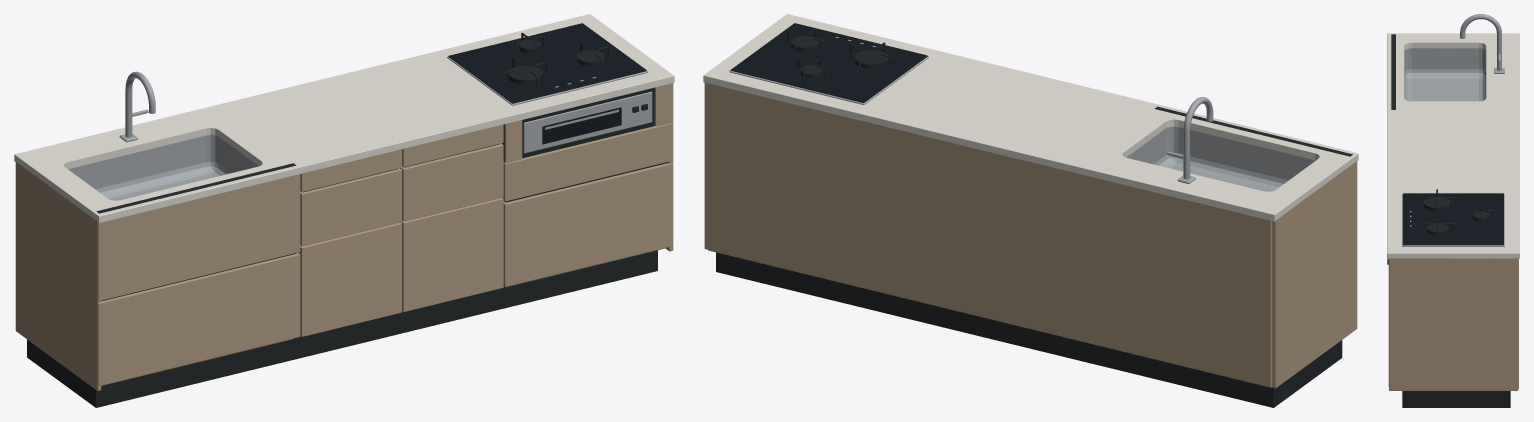
File: original-kitchen-gas2550-no-dw.glb
3 views of the same model, side by side, from view 1: azimuth 30°, elevation 25°; view 2: azimuth 150°, elevation 25°; view 3: azimuth 270°, elevation 25° (orthographic). The views are drawn at different scales.
Visible parts, largest first — view 1: original-kitchen-gas2550-no-dw; view 2: original-kitchen-gas2550-no-dw; view 3: original-kitchen-gas2550-no-dw.
Part boxes in pixels (x1,y1,x2,y2): original-kitchen-gas2550-no-dw: (14,14,674,407); original-kitchen-gas2550-no-dw: (703,14,1358,407); original-kitchen-gas2550-no-dw: (1387,14,1519,407).
Bounding box in the file's own units: 2.55 × 1.16 × 0.65.
